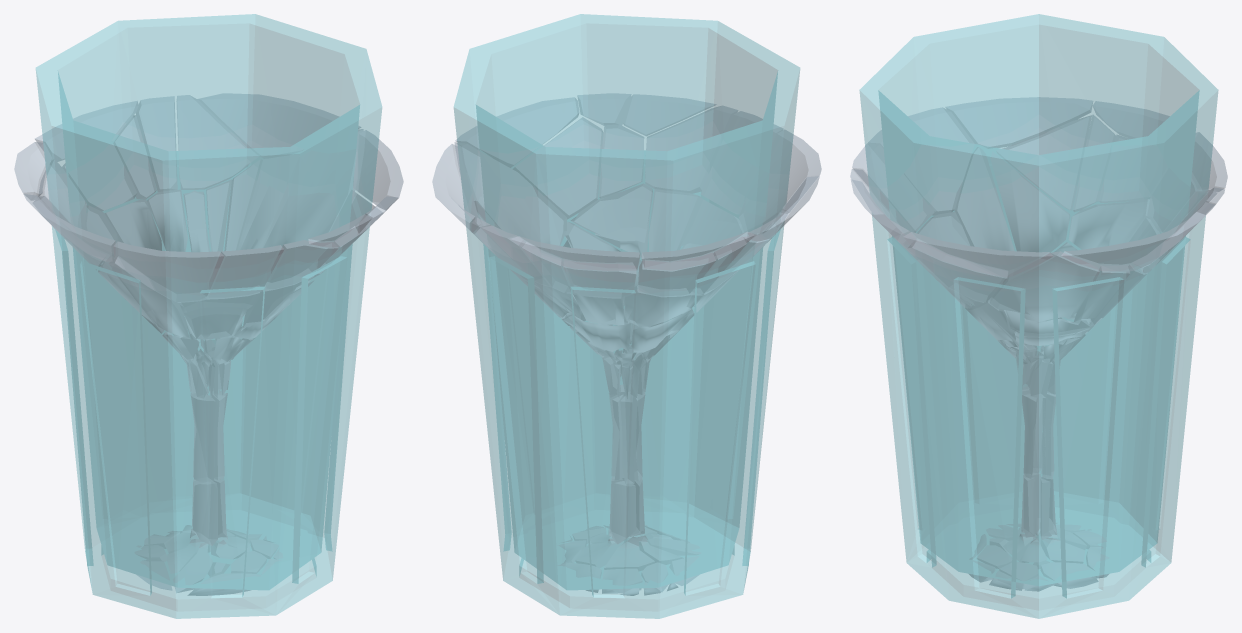
Rendered from Water.obj.
The picture shows the model from 3 angles, left to right: view 1: azimuth 30°, elevation 25°; view 2: azimuth 150°, elevation 25°; view 3: azimuth 270°, elevation 25°; orthographic projection.
Parts seen in each view (by area): view 1: Cube, 立方体.002_cell.045, 立方体.002_cell.093, 立方体.002_cell.055, 立方体.002_cell.050, 立方体.002_cell.001, 立方体.002_cell.019, 立方体.002_cell.059, 立方体.002_cell.092, 立方体.002_cell.010, 立方体.002_cell.027, 立方体.002_cell.031 (+26 smaller); view 2: Cube, 立方体.002_cell.045, 立方体.002_cell.073, 立方体.002_cell.027, 立方体.002_cell.050, 立方体.002_cell.019, 立方体.002_cell.010, 立方体.002_cell.023, 立方体.002_cell.020, 立方体.002_cell.095, 立方体.002_cell.058, 立方体.002_cell.056 (+24 smaller); view 3: Cube, 立方体.002_cell.074, 立方体.002_cell.050, 立方体.002_cell.045, 立方体.002_cell.046, 立方体.002_cell.088, 立方体.002_cell.031, 立方体.002_cell.086, 立方体.002_cell.019, 立方体.002_cell.093, 立方体.002_cell.085, 立方体.002_cell.010 (+20 smaller).
Part boxes in pixels (bbox=[...]): Cube: bbox=[36, 14, 381, 618]; 立方体.002_cell.045: bbox=[263, 129, 363, 247]; 立方体.002_cell.093: bbox=[198, 93, 360, 158]; 立方体.002_cell.055: bbox=[176, 95, 257, 189]; 立方体.002_cell.050: bbox=[113, 241, 224, 301]; 立方体.002_cell.001: bbox=[136, 96, 177, 191]; 立方体.002_cell.019: bbox=[353, 130, 403, 209]; 立方体.002_cell.059: bbox=[238, 155, 299, 249]; 立方体.002_cell.092: bbox=[62, 144, 136, 210]; 立方体.002_cell.010: bbox=[208, 245, 284, 297]; 立方体.002_cell.027: bbox=[266, 240, 338, 288]; 立方体.002_cell.031: bbox=[109, 259, 188, 337]; Cube: bbox=[454, 14, 799, 618]; 立方体.002_cell.045: bbox=[454, 142, 566, 245]; 立方体.002_cell.073: bbox=[514, 117, 603, 218]; 立方体.002_cell.027: bbox=[645, 106, 737, 193]; 立方体.002_cell.050: bbox=[739, 130, 821, 231]; 立方体.002_cell.019: bbox=[455, 97, 579, 167]; 立方体.002_cell.010: bbox=[701, 111, 783, 213]; 立方体.002_cell.023: bbox=[599, 124, 643, 198]; 立方体.002_cell.020: bbox=[571, 184, 652, 235]; 立方体.002_cell.095: bbox=[649, 189, 700, 251]; 立方体.002_cell.058: bbox=[622, 94, 716, 135]; 立方体.002_cell.056: bbox=[510, 236, 639, 270]; Cube: bbox=[859, 14, 1218, 618]; 立方体.002_cell.074: bbox=[945, 97, 1092, 147]; 立方体.002_cell.050: bbox=[868, 107, 974, 215]; 立方体.002_cell.045: bbox=[990, 251, 1099, 321]; 立方体.002_cell.046: bbox=[997, 115, 1091, 209]; 立方体.002_cell.088: bbox=[991, 152, 1069, 252]; 立方体.002_cell.031: bbox=[954, 147, 1013, 250]; 立方体.002_cell.086: bbox=[1099, 135, 1166, 202]; 立方体.002_cell.019: bbox=[903, 232, 1053, 277]; 立方体.002_cell.093: bbox=[1061, 212, 1205, 271]; 立方体.002_cell.085: bbox=[1069, 199, 1149, 249]; 立方体.002_cell.010: bbox=[852, 143, 933, 232].
Bounding box in the file's own units: 0.2776 × 0.3839 × 0.2776.
2 materials, 1 textured.
